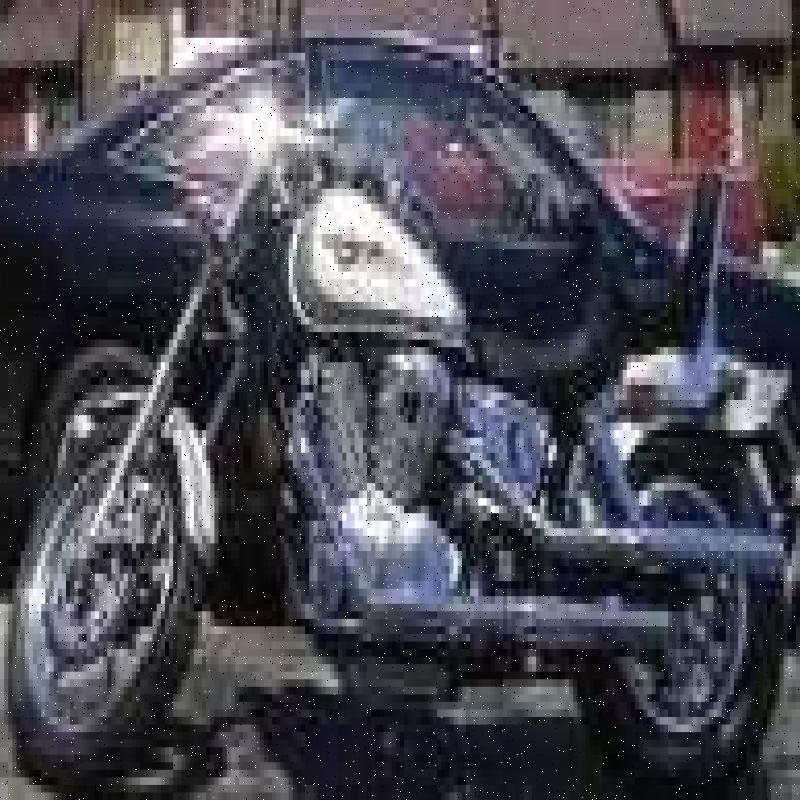bike: (10, 80, 790, 760)
